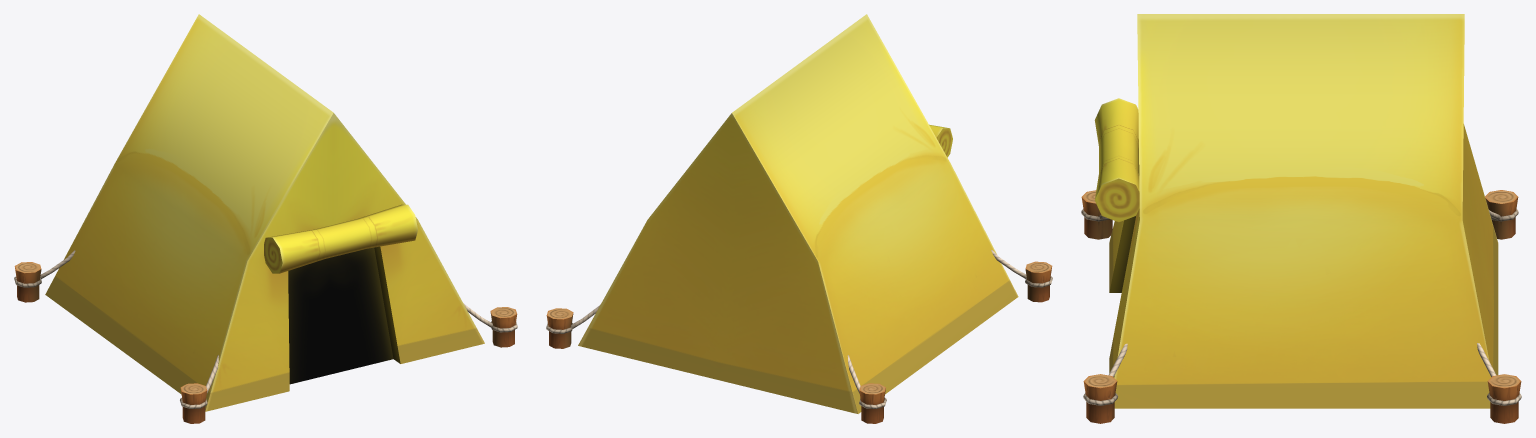
File: Tent 1.FBX
3 views of the same model, side by side, from view 1: azimuth 30°, elevation 25°; view 2: azimuth 150°, elevation 25°; view 3: azimuth 270°, elevation 25° (orthographic). The views are drawn at different scales.
Visible parts, largest first — view 1: Box137; view 2: Box137; view 3: Box137.
Part boxes in pixels (x1,y1,x2,y2): Box137: (14, 14, 517, 423); Box137: (546, 14, 1052, 423); Box137: (1081, 14, 1521, 423).
Bounding box in the file's own units: 31.15 × 22.74 × 29.11.
